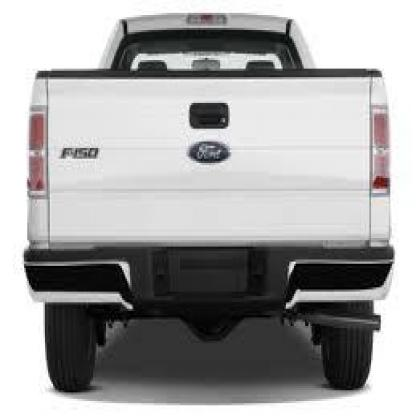Vehicle: (23, 11, 395, 403)
